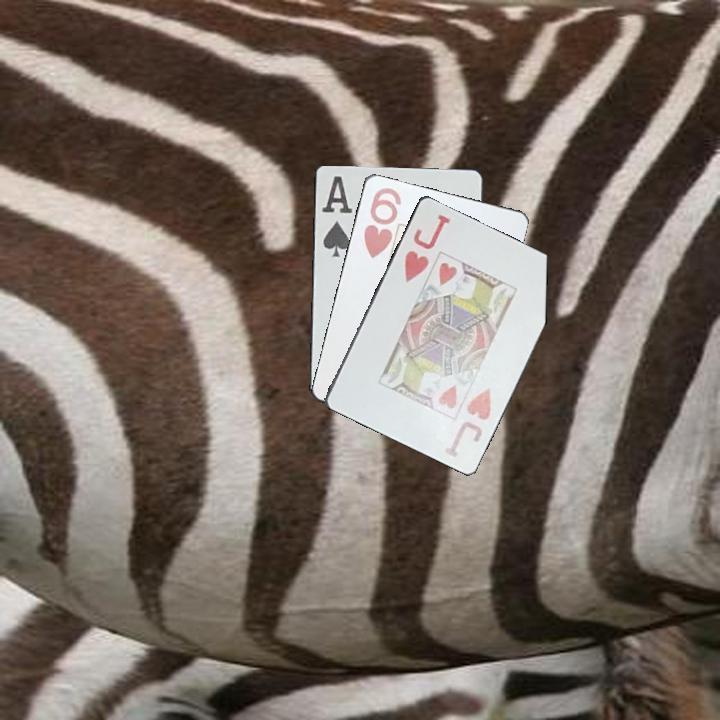6h: (360, 184, 403, 261)
As: (318, 172, 355, 260)
Jh: (442, 384, 494, 460), (401, 210, 453, 285)
